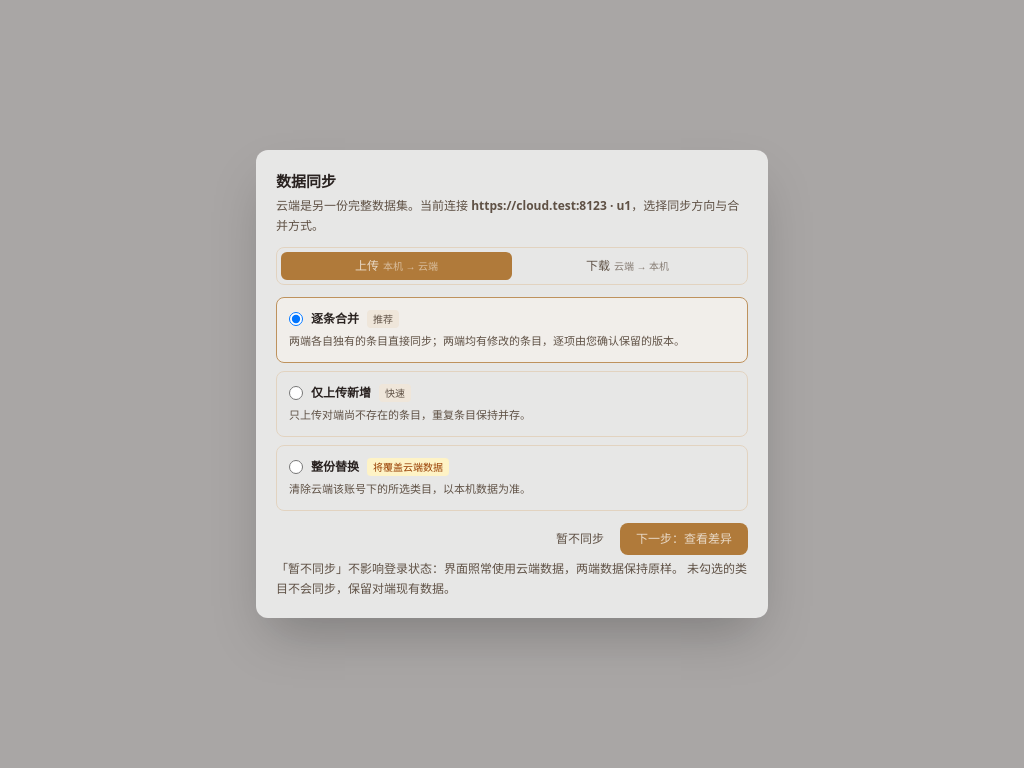
Test: SyncWizard › 下载流：打的是 /api/sync/pull，预检列名翻转
This screenshot has width=1024, height=768.
Click the button "下载云端 → 本机".
click(628, 266)  # box [512, 252, 743, 280]
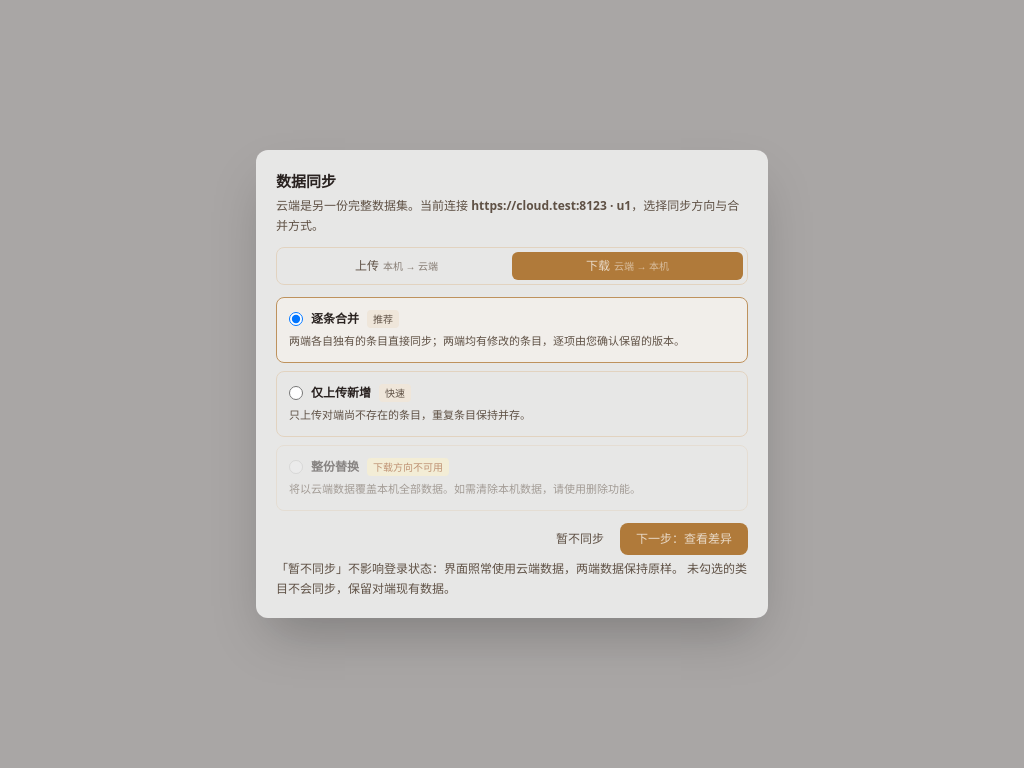
Click the button "下一步：查看差异".
click(684, 539)  # box [620, 523, 748, 555]
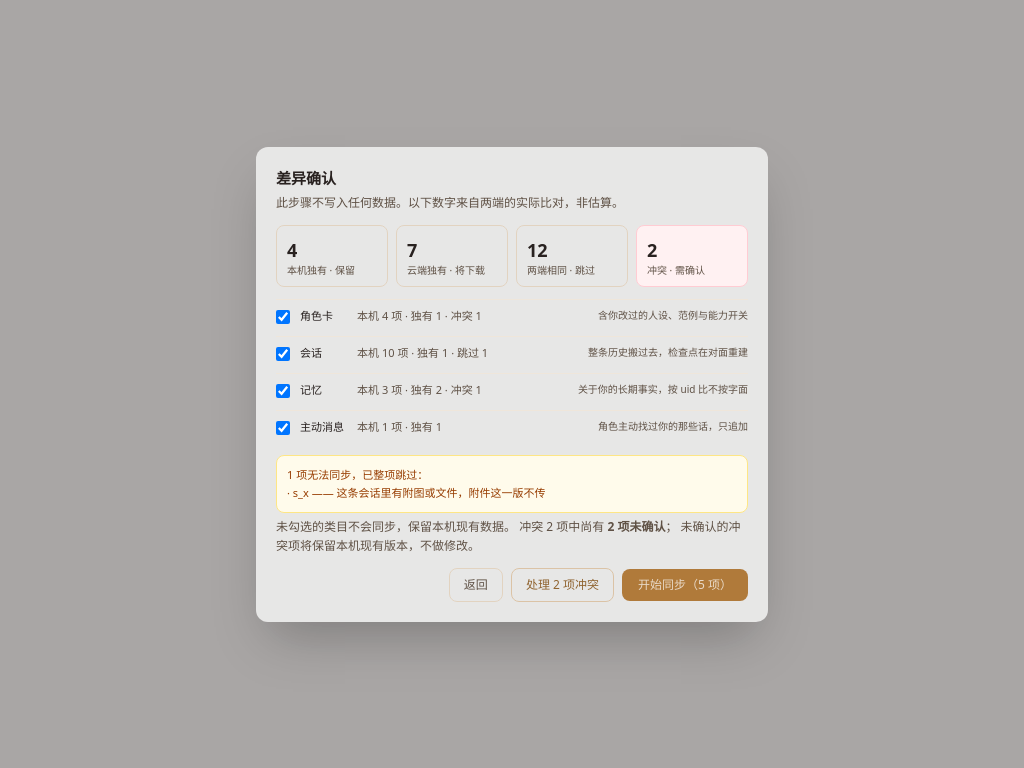
Result: the heading "差异确认" is shown at [276, 168, 336, 188]
Result: the text "云端独有 · 将下载" is shown at [407, 264, 497, 276]
Click the button "开始同步（5 项）".
click(685, 584)  # box [622, 568, 748, 600]
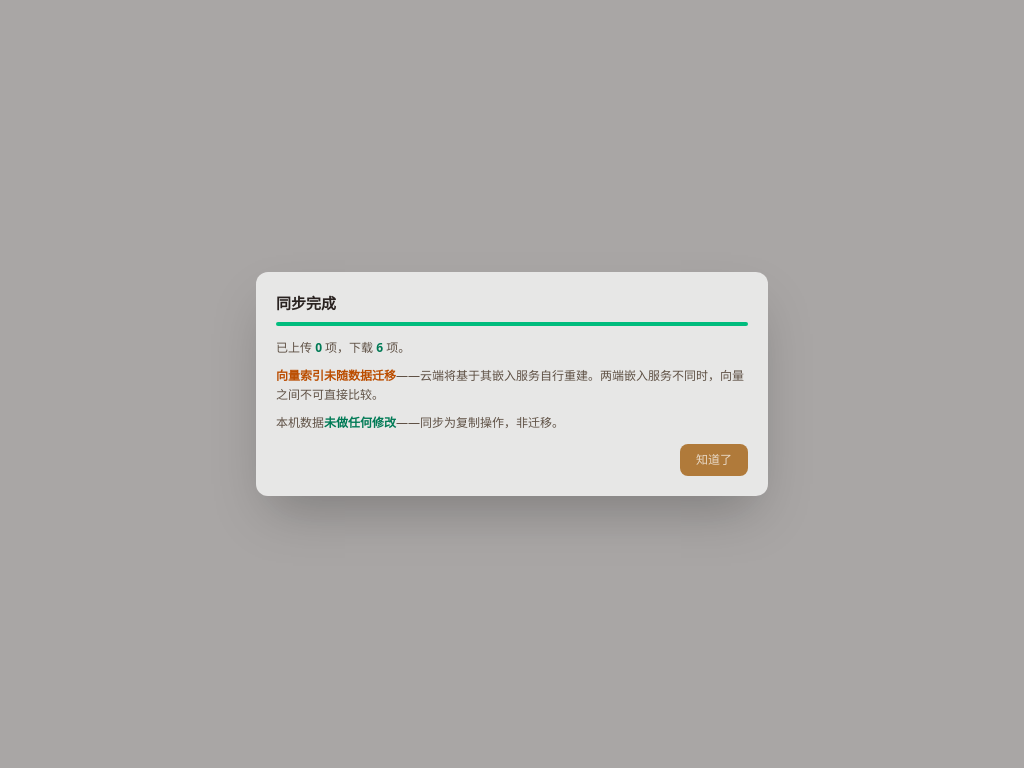
Result: the heading "同步完成" is shown at [276, 293, 336, 313]
Result: the dialog shows "已上传 0 项，下载 6 项"
